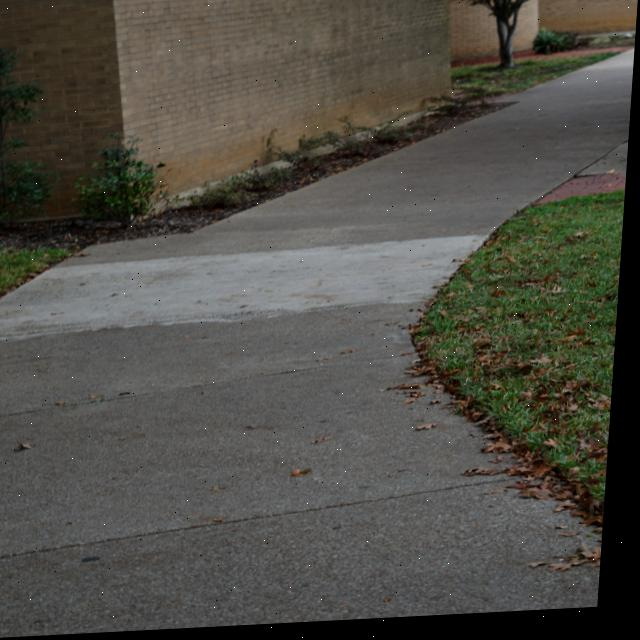Sidewalk: (0, 57, 635, 636)
